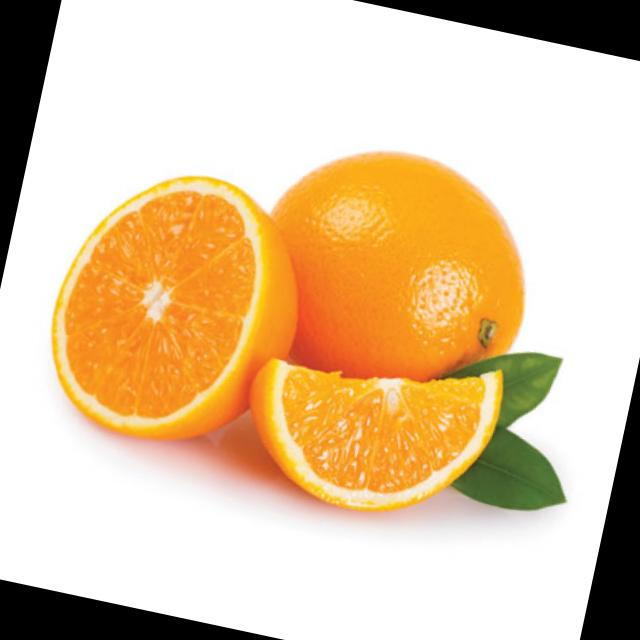orange: (216, 107, 572, 455)
